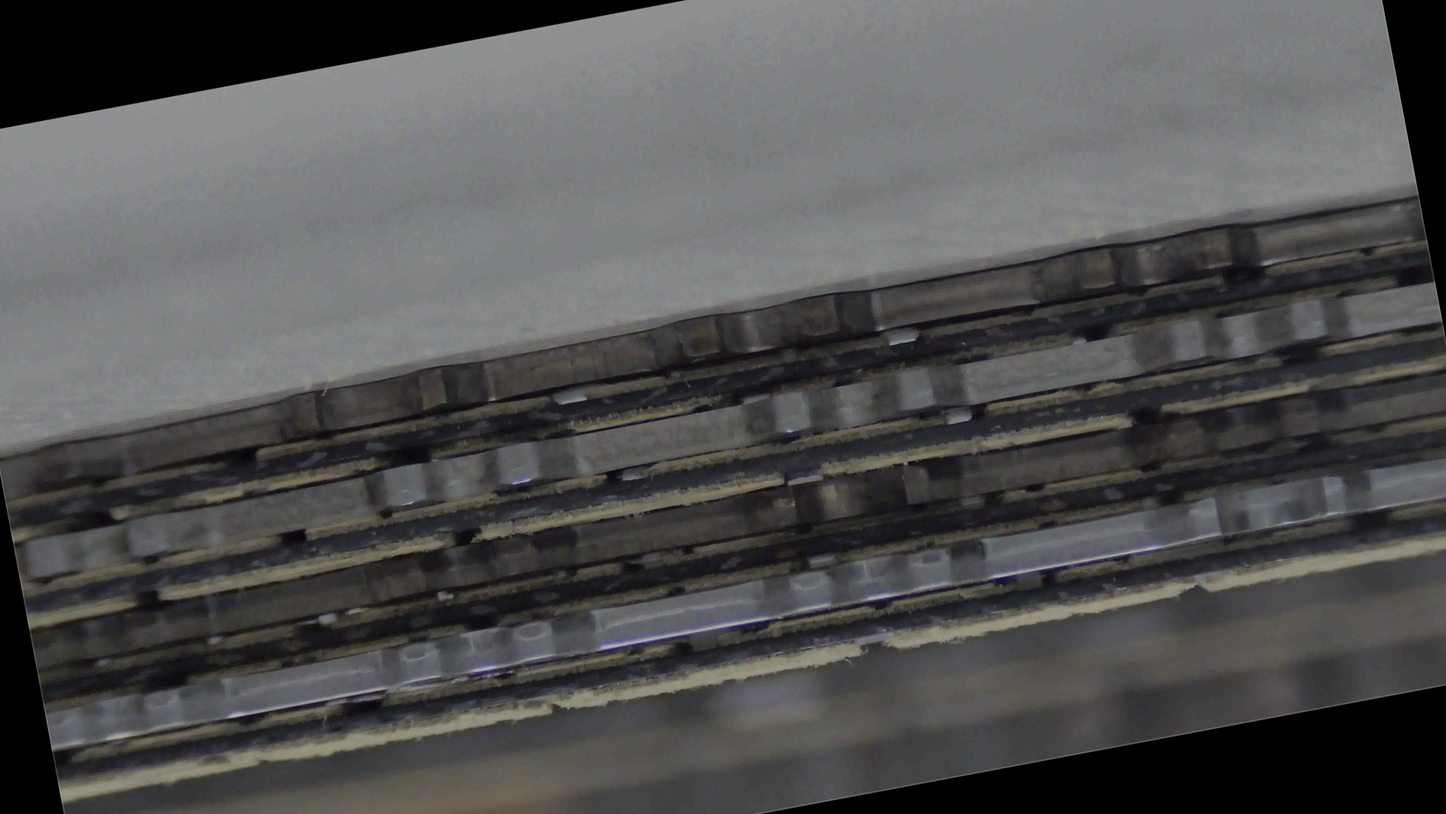Black metal plate: (1, 293, 1420, 633), (0, 494, 1445, 553)
shiney metal plate: (0, 0, 1336, 492), (0, 358, 1445, 411)
spacer: (7, 131, 1398, 547), (8, 243, 1430, 528), (0, 133, 1445, 187), (0, 226, 1442, 272)
